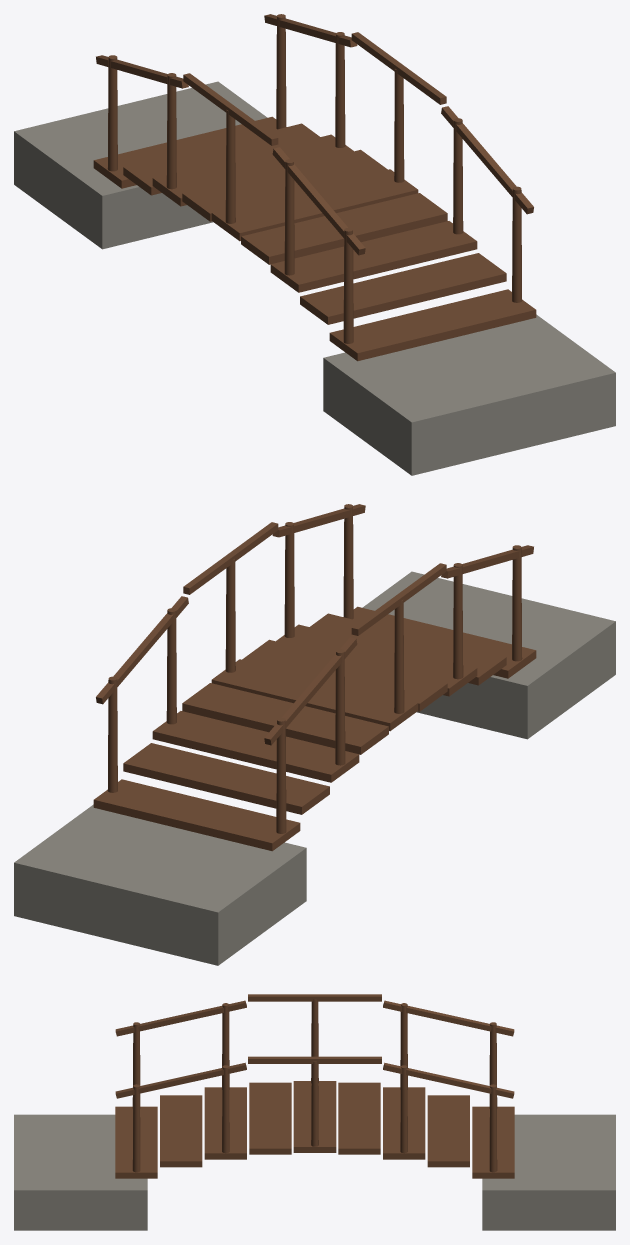
File: wooden-bridge-lod0.glb
The picture shows the model from 3 angles, top to bottom: view 1: azimuth 30°, elevation 25°; view 2: azimuth 150°, elevation 25°; view 3: azimuth 270°, elevation 25°; orthographic projection. The views are drawn at different scales.
Visible parts, largest first — view 1: abutment (×2), post (×10), plank-8, plank-7, plank-6, plank-5, plank-4, plank-3, plank-2, plank-1, rail-2 (×2), rail-1 (×2) (+2 smaller); view 2: abutment (×2), post (×10), plank-0, plank-1, plank-2, plank-3, plank-4, plank-5, plank-6, plank-7, rail-0 (×2), rail-1 (×2) (+2 smaller); view 3: abutment (×2), post (×10), plank-3, plank-5, plank-1, plank-7, plank-4, plank-2, plank-6, plank-0, plank-8, rail-1 (×2) (+2 smaller).
Part boxes in pixels (x1=…): abutment (×2): x1=14, y1=81, x2=615, y2=475; post (×10): x1=107, y1=14, x2=522, y2=343; plank-8: x1=329, y1=289, x2=536, y2=361; plank-7: x1=300, y1=253, x2=506, y2=324; plank-6: x1=270, y1=221, x2=477, y2=292; plank-5: x1=241, y1=193, x2=447, y2=264; plank-4: x1=211, y1=169, x2=418, y2=241; plank-3: x1=182, y1=149, x2=387, y2=221; plank-2: x1=152, y1=134, x2=353, y2=206; plank-1: x1=123, y1=123, x2=319, y2=195; rail-2 (×2): x1=272, y1=106, x2=533, y2=255; rail-1 (×2): x1=183, y1=32, x2=446, y2=145; abutment (×2): x1=14, y1=571, x2=615, y2=965; post (×10): x1=107, y1=504, x2=522, y2=833; plank-0: x1=93, y1=779, x2=300, y2=851; plank-1: x1=123, y1=743, x2=329, y2=814; plank-2: x1=152, y1=711, x2=359, y2=782; plank-3: x1=182, y1=683, x2=388, y2=754; plank-4: x1=211, y1=659, x2=418, y2=731; plank-5: x1=242, y1=639, x2=447, y2=711; plank-6: x1=276, y1=624, x2=477, y2=696; plank-7: x1=310, y1=613, x2=506, y2=685; rail-0 (×2): x1=96, y1=596, x2=357, y2=745; rail-1 (×2): x1=183, y1=522, x2=446, y2=635; abutment (×2): x1=14, y1=1114, x2=615, y2=1230; post (×10): x1=132, y1=999, x2=497, y2=1172; plank-3: x1=338, y1=1082, x2=380, y2=1154; plank-5: x1=249, y1=1082, x2=291, y2=1154; plank-1: x1=427, y1=1095, x2=469, y2=1167; plank-7: x1=160, y1=1095, x2=202, y2=1167; plank-4: x1=293, y1=1081, x2=336, y2=1152; plank-2: x1=383, y1=1087, x2=425, y2=1159; plank-6: x1=204, y1=1087, x2=246, y2=1159; plank-0: x1=472, y1=1106, x2=514, y2=1178; plank-8: x1=115, y1=1106, x2=157, y2=1178; rail-1 (×2): x1=248, y1=994, x2=381, y2=1063.
Bounding box in the file's own units: 1.6 × 1.65 × 5.4.
